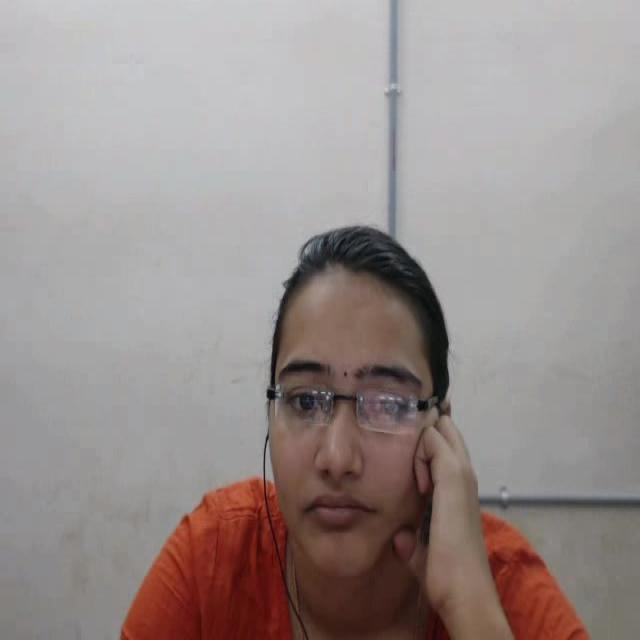Bored: (231, 172, 487, 626)
